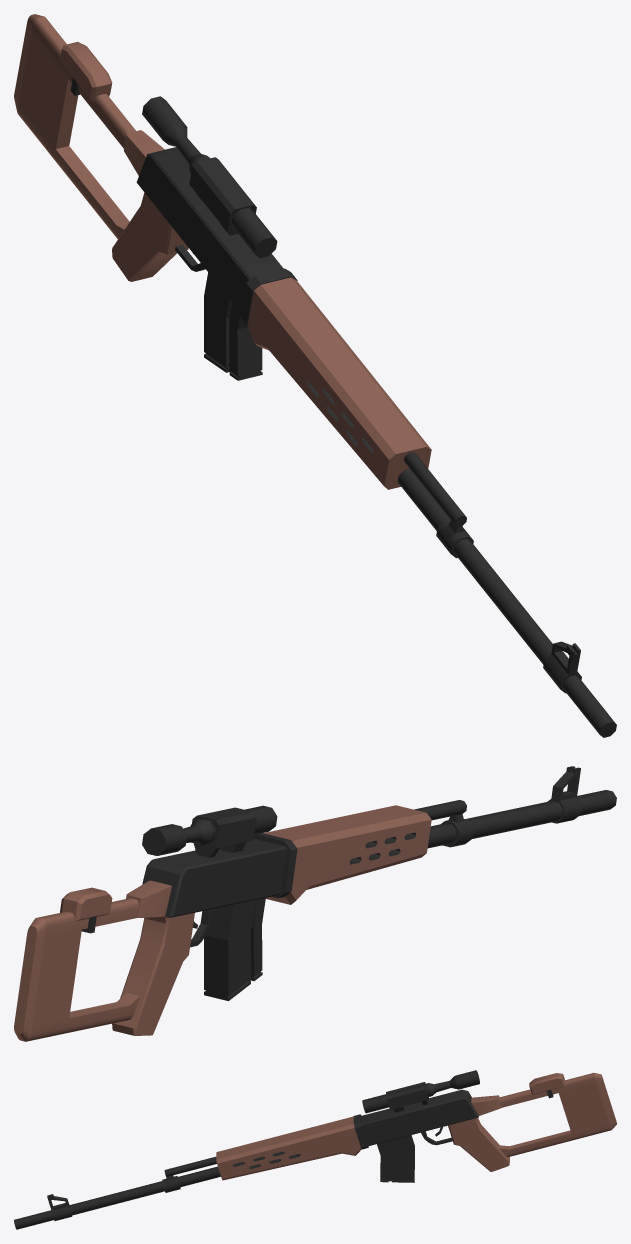
The model's file is dragunov.glb.
The picture shows the model from 3 angles, top to bottom: view 1: azimuth 30°, elevation 25°; view 2: azimuth 150°, elevation 25°; view 3: azimuth 270°, elevation 25°; orthographic projection. The views are drawn at different scales.
Parts seen in each view (by area): view 1: Dragunov_SVD_Body_36, Dragunov_SVD_Magazine_34; view 2: Dragunov_SVD_Body_36, Dragunov_SVD_Magazine_34; view 3: Dragunov_SVD_Body_36, Dragunov_SVD_Magazine_34.
Part boxes in pixels (x1=…): Dragunov_SVD_Body_36: x1=14, y1=14, x2=616, y2=737; Dragunov_SVD_Magazine_34: x1=204, y1=272, x2=262, y2=380; Dragunov_SVD_Body_36: x1=14, y1=766, x2=616, y2=1041; Dragunov_SVD_Magazine_34: x1=204, y1=898, x2=265, y2=1000; Dragunov_SVD_Body_36: x1=14, y1=1070, x2=616, y2=1229; Dragunov_SVD_Magazine_34: x1=377, y1=1135, x2=414, y2=1182.
Bounding box in the file's own units: 0.1346 × 0.8833 × 3.06.
